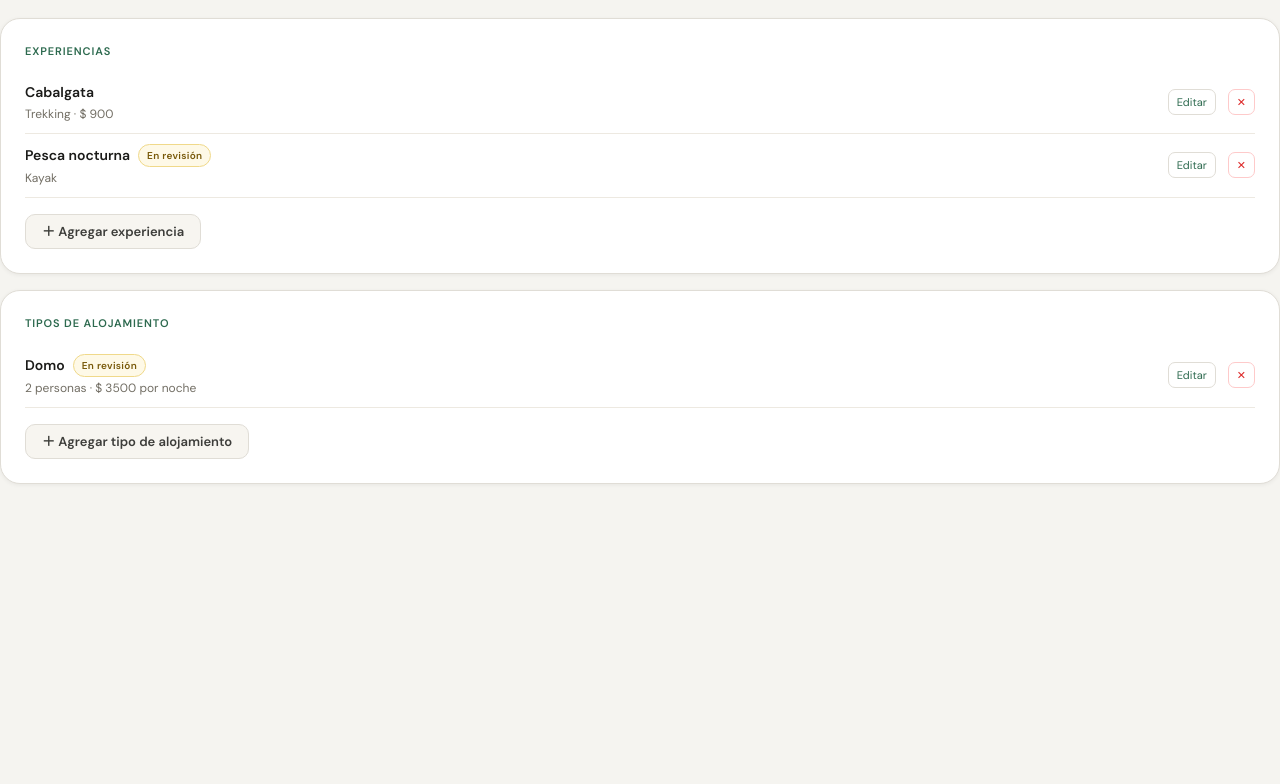
Test: ContentTab › una unidad de glamping incompleta no se guarda
Expected: the text "Cabalgata" is shown, [25,82,94,102]
Step 1. Click the button "＋ Agregar tipo de alojamiento" → (137, 441), box [25,424,249,459]
(page scrolled)
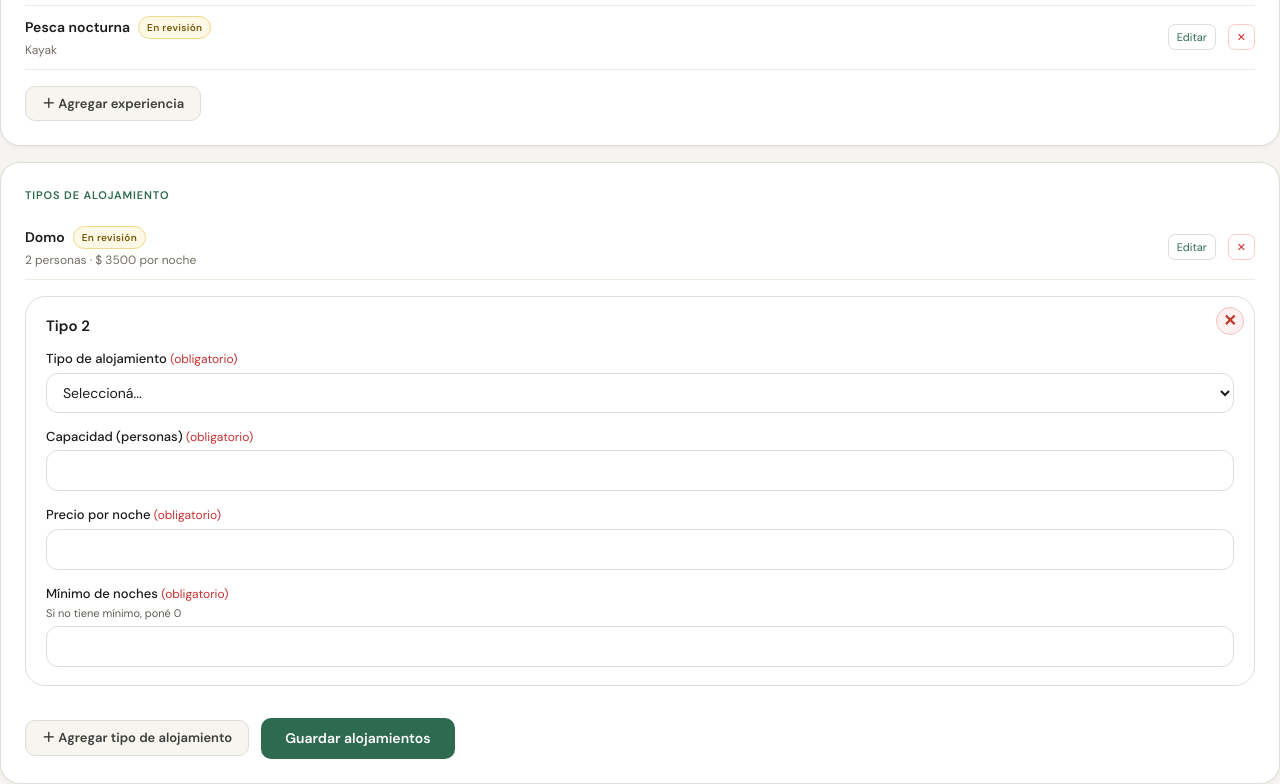
Step 2. Click the button "Guardar alojamientos" → (358, 738), box [261,718,455,758]
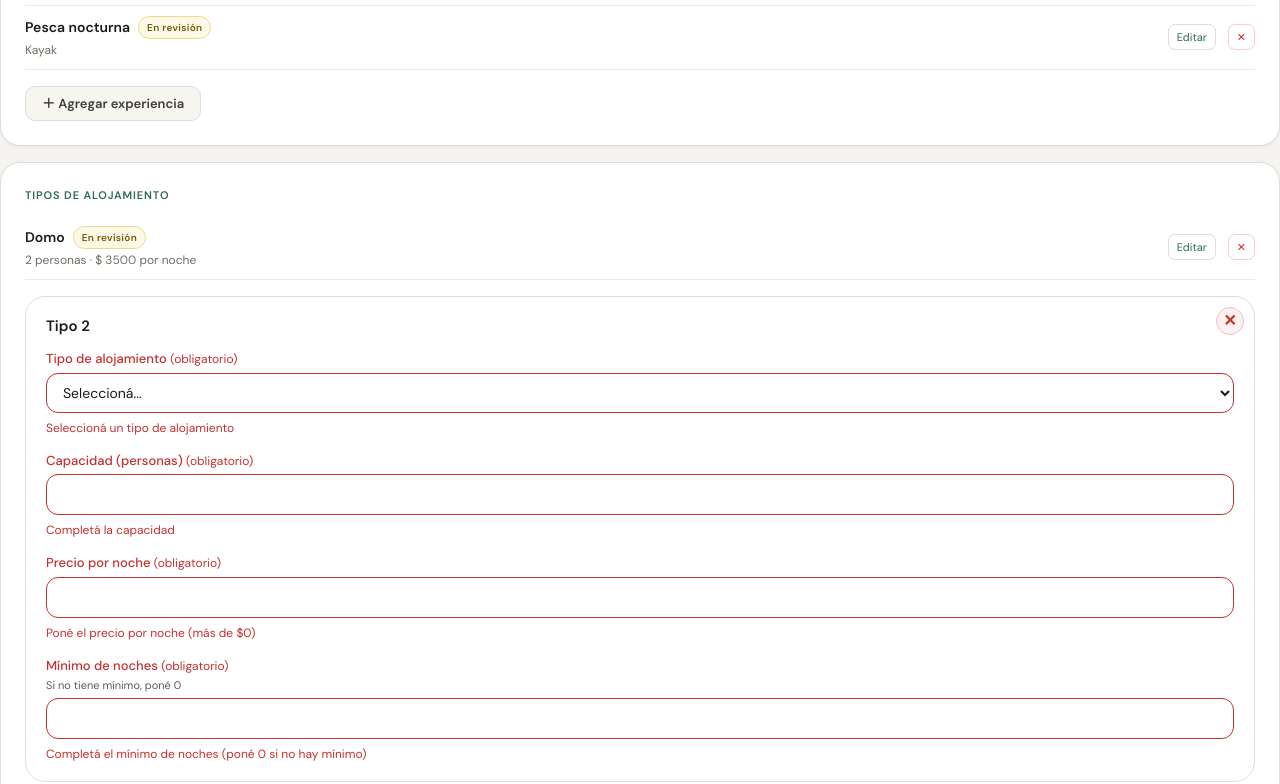
Now the text "Seleccioná un tipo de alojamiento" is shown, box [46,420,234,436]
